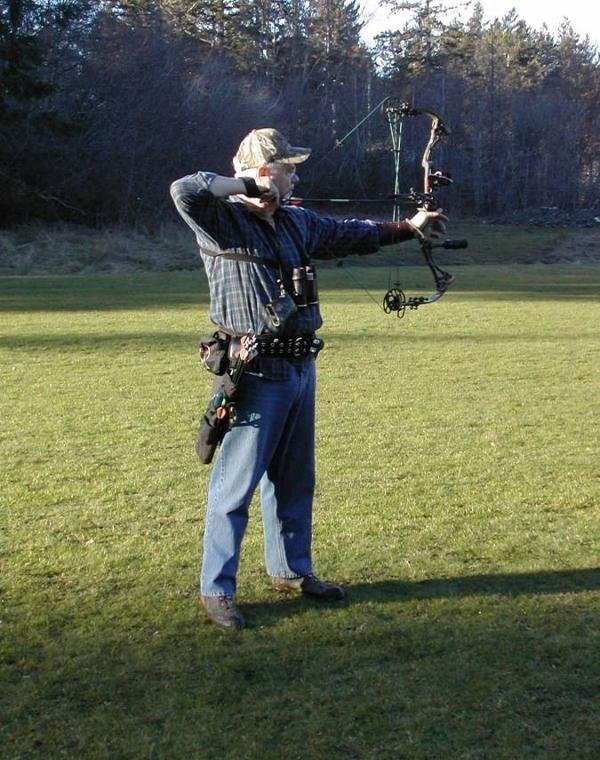person: (167, 125, 441, 633)
